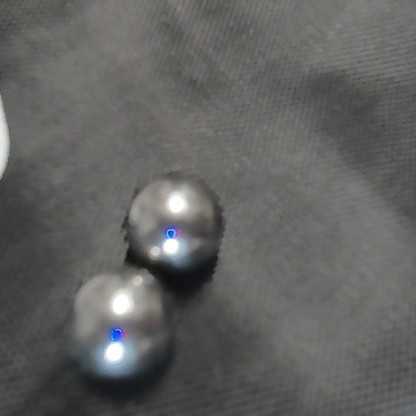ironball: (70, 273, 171, 382), (124, 177, 219, 266)
